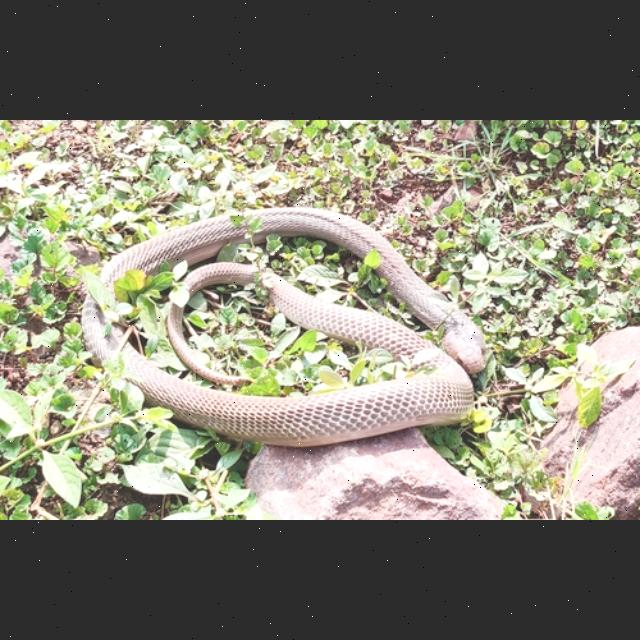snake: (69, 200, 493, 450)
